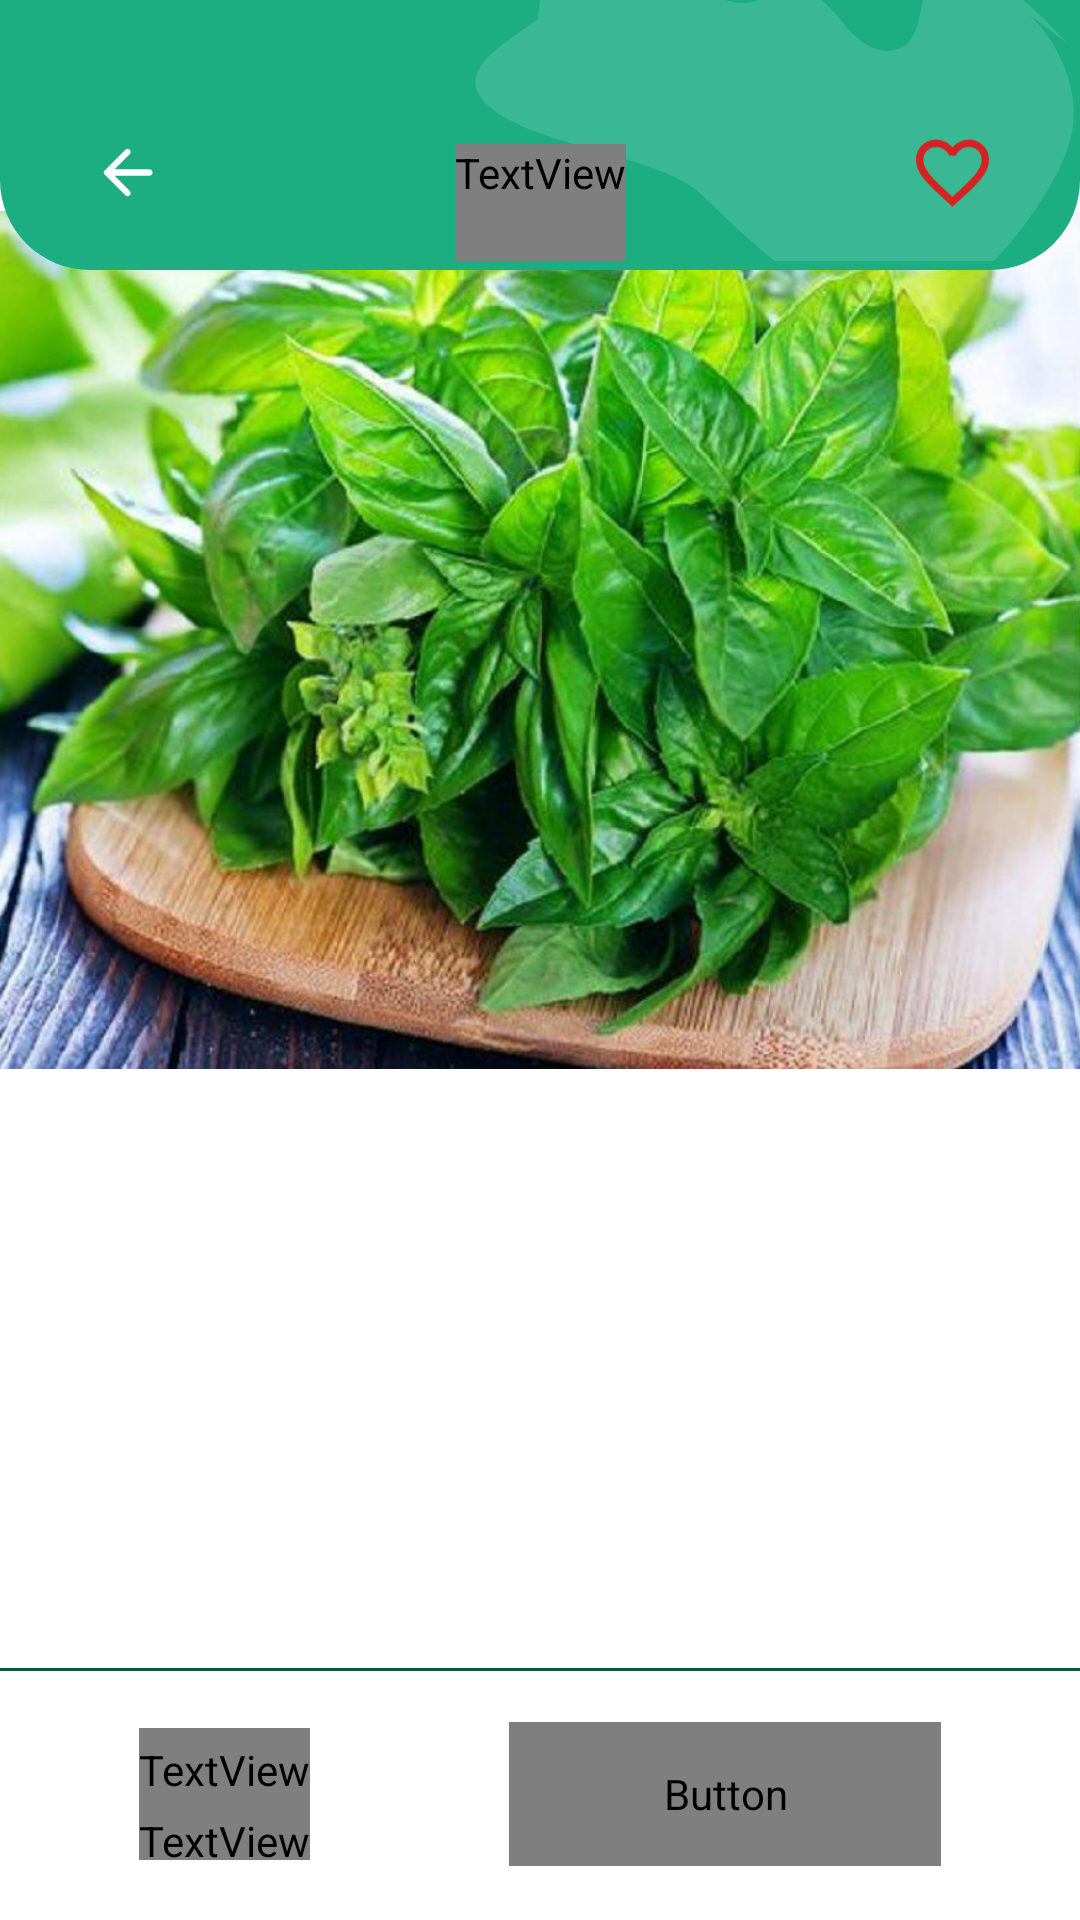

Icons on this 1080w x 1920h Android screen, each with its box as {"left": x1, "top": y1, "right": x2, "bottom": y2}:
Ikon Tidak Favorit: {"left": 916, "top": 139, "right": 989, "bottom": 207}
Kembali: {"left": 103, "top": 148, "right": 153, "bottom": 197}
